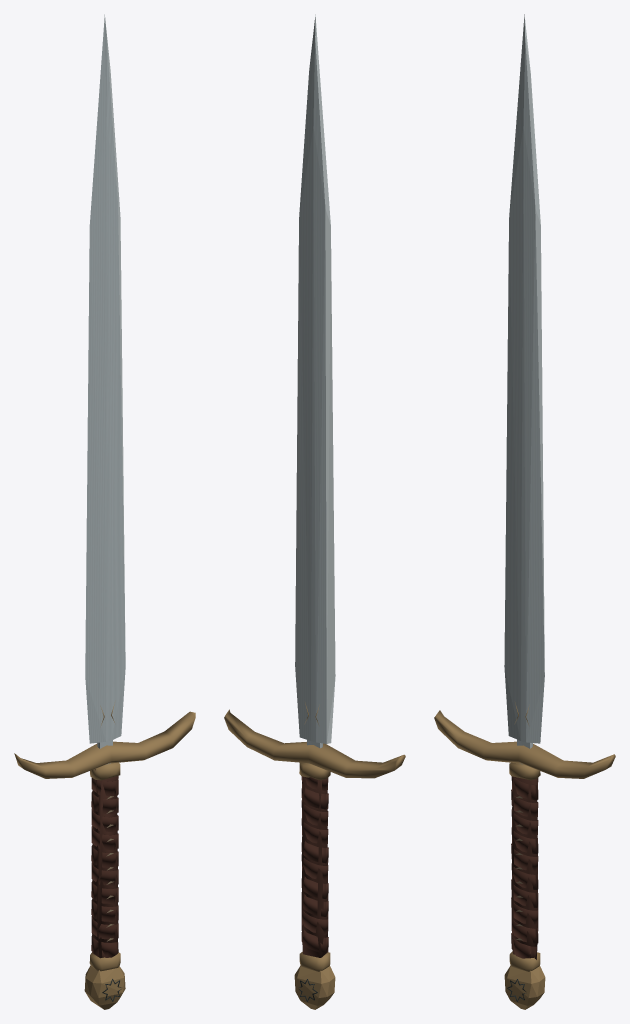
Rendered from sword_lod2.glb.
3 views of the same model, side by side, from view 1: azimuth 30°, elevation 25°; view 2: azimuth 150°, elevation 25°; view 3: azimuth 330°, elevation 25° (orthographic).
Parts seen in each view (by area): view 1: SwordMesh_LOD2; view 2: SwordMesh_LOD2; view 3: SwordMesh_LOD2.
Boxes of the visible parts, x1=… form: SwordMesh_LOD2: x1=14, y1=14, x2=195, y2=1009; SwordMesh_LOD2: x1=224, y1=14, x2=405, y2=1009; SwordMesh_LOD2: x1=434, y1=14, x2=615, y2=1009.
Size of the model in its own units: 0.2461 by 1.33 by 0.0384.
6 materials, 3 textured.
